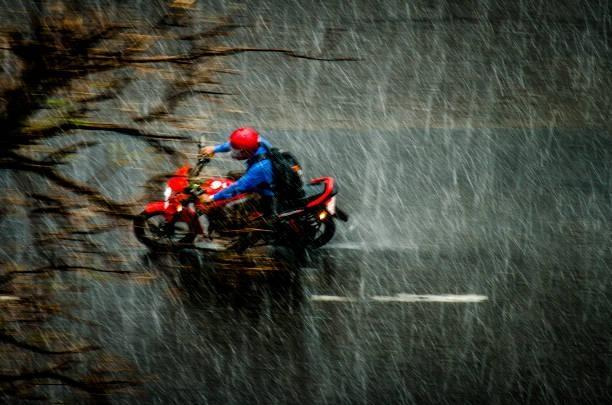Motorcycle: (133, 167, 348, 263)
